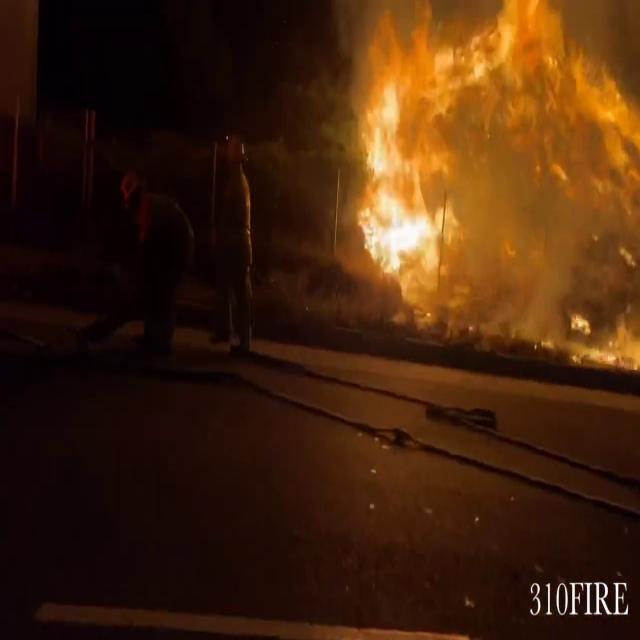Smoke: (342, 0, 472, 345), (440, 0, 640, 210)
